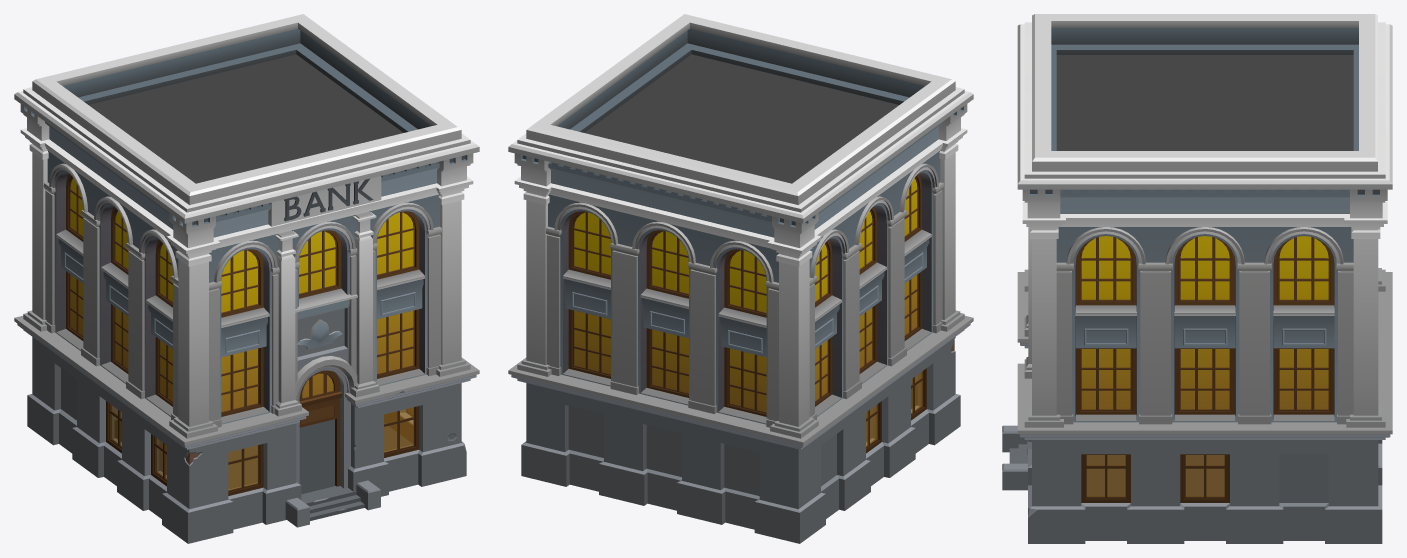
File: SM_Buildings_Bank.fbx
The picture shows the model from 3 angles, left to right: view 1: azimuth 30°, elevation 25°; view 2: azimuth 150°, elevation 25°; view 3: azimuth 270°, elevation 25°; orthographic projection. The views are drawn at different scales.
Parts seen in each view (by area): view 1: SM_Buildings_Bank; view 2: SM_Buildings_Bank; view 3: SM_Buildings_Bank.
Part boxes in pixels (x1,y1,x2,y2): SM_Buildings_Bank: [14, 14, 479, 543]; SM_Buildings_Bank: [508, 14, 973, 543]; SM_Buildings_Bank: [1002, 14, 1392, 543].
Size of the model in its own units: 11.26 by 12.69 by 11.72.
